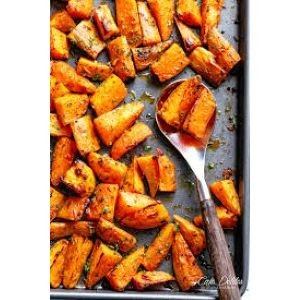sweet potato_brain food: (72, 56, 154, 232)
